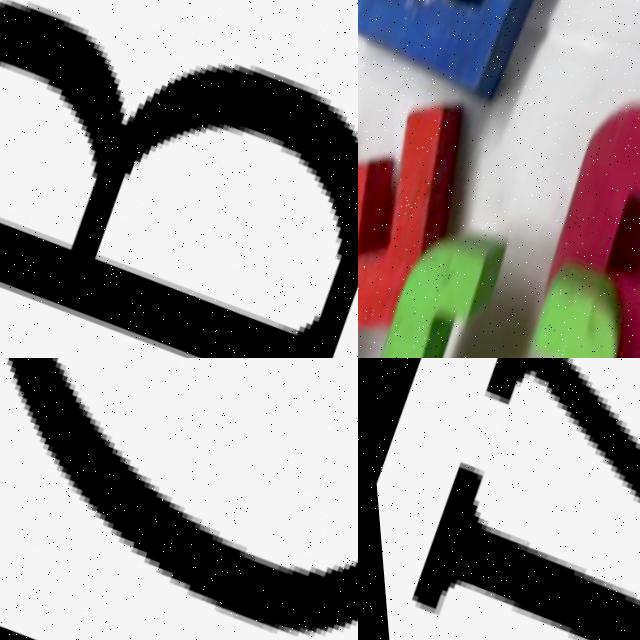B: (0, 2, 358, 358), (358, 0, 610, 154)
C: (358, 196, 640, 358)
E: (358, 52, 499, 358)
G: (0, 358, 358, 640)
V: (358, 358, 640, 640)
